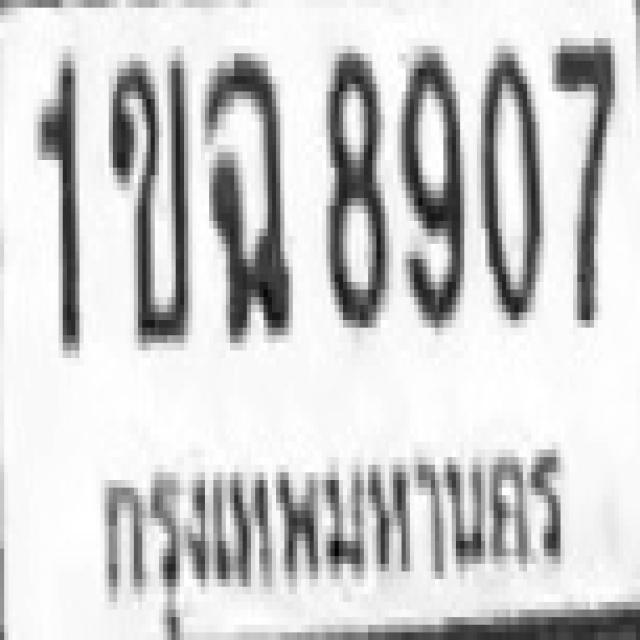0: (477, 38, 539, 320)
1: (34, 50, 76, 346)
11KhorKhai: (105, 54, 188, 336)
18ChorChing: (200, 46, 288, 335)
7: (548, 30, 611, 320)
8: (322, 46, 385, 320)
9: (398, 38, 460, 320)
Bangkok: (88, 419, 581, 640)
